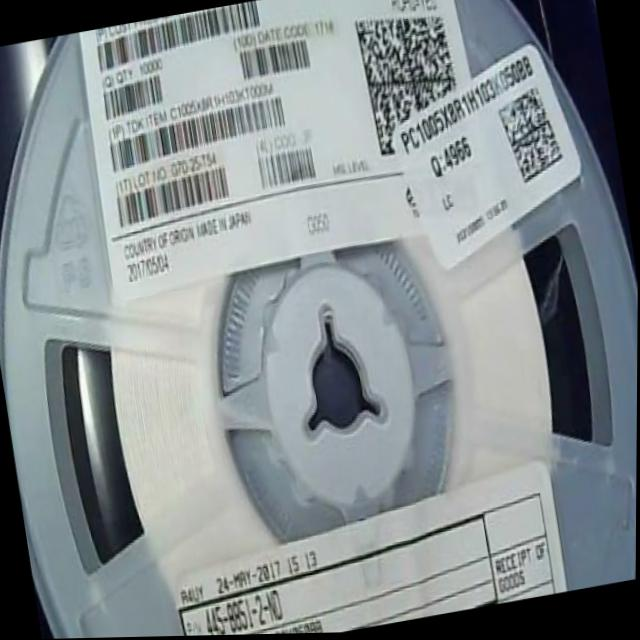datamatrix: (352, 1, 471, 163), (494, 84, 569, 193)
